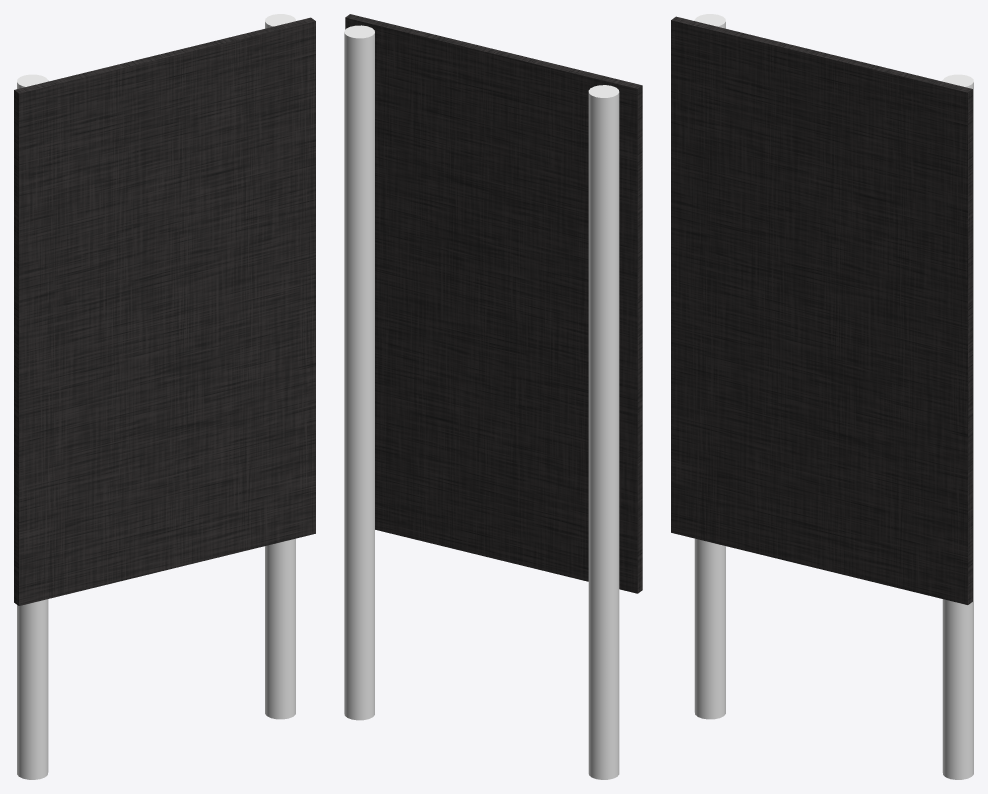
File: Map_Mrt (1).fbx
The picture shows the model from 3 angles, left to right: view 1: azimuth 30°, elevation 25°; view 2: azimuth 150°, elevation 25°; view 3: azimuth 330°, elevation 25°; orthographic projection.
Parts seen in each view (by area): view 1: Map, Pole, Pole2; view 2: Map, Pole, Pole2; view 3: Map, Pole2, Pole.
Boxes of the visible parts, box(x1,y1,x2,y2) form: Map: box(14, 17, 315, 605); Pole: box(17, 74, 48, 779); Pole2: box(265, 14, 295, 719); Map: box(345, 14, 642, 593); Pole: box(588, 85, 619, 779); Pole2: box(344, 25, 374, 720); Map: box(671, 16, 972, 604); Pole2: box(942, 74, 973, 779); Pole: box(694, 14, 725, 719).
Size of the model in its own units: 88.39 by 198 by 10.69.
